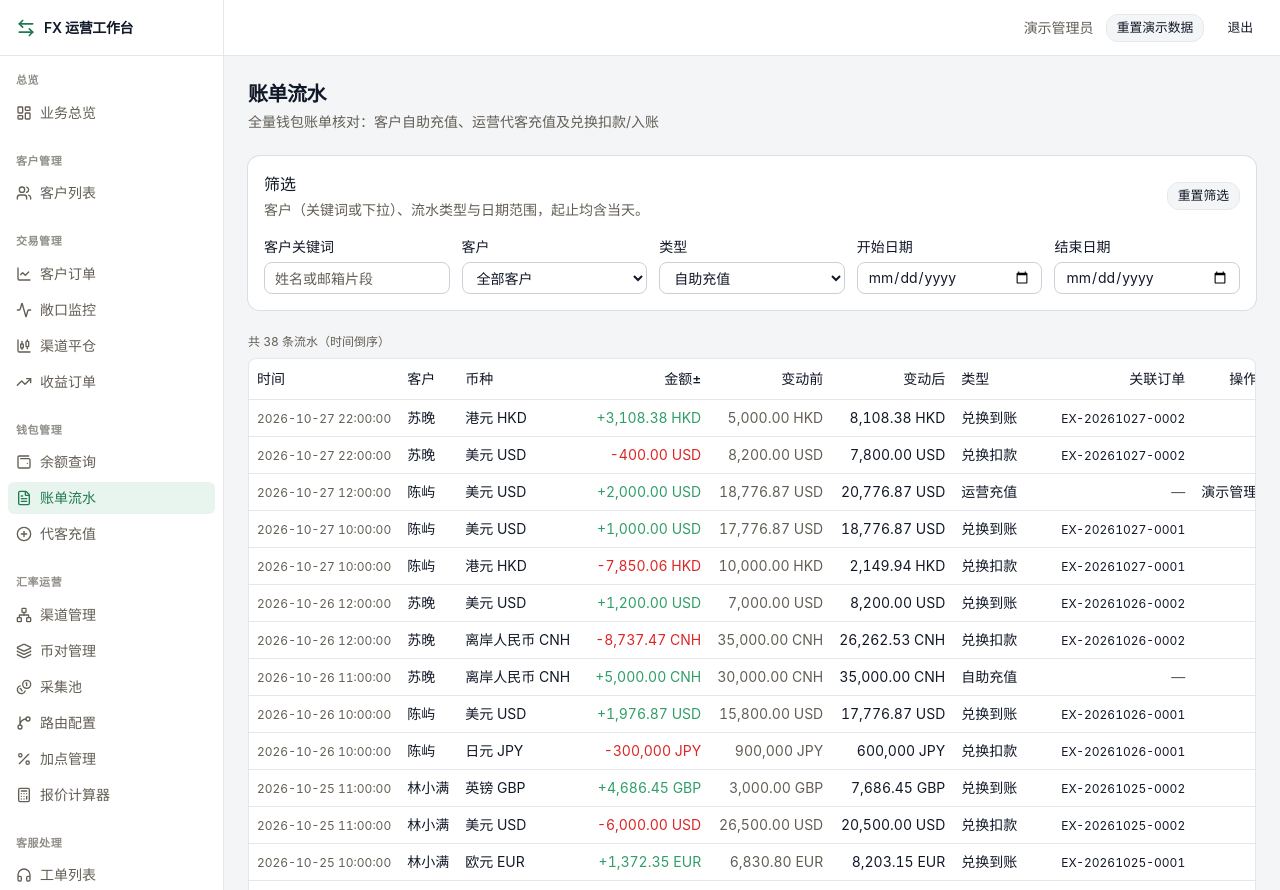
Test case: 运营账单流水 › 类型筛选 TOPUP_SELF 后仅 1 行（预置唯一一笔自助充值）
Select "自助充值" in the dropdown labelled "类型" at (752, 278), box x1=659 y1=262 x2=845 y2=294
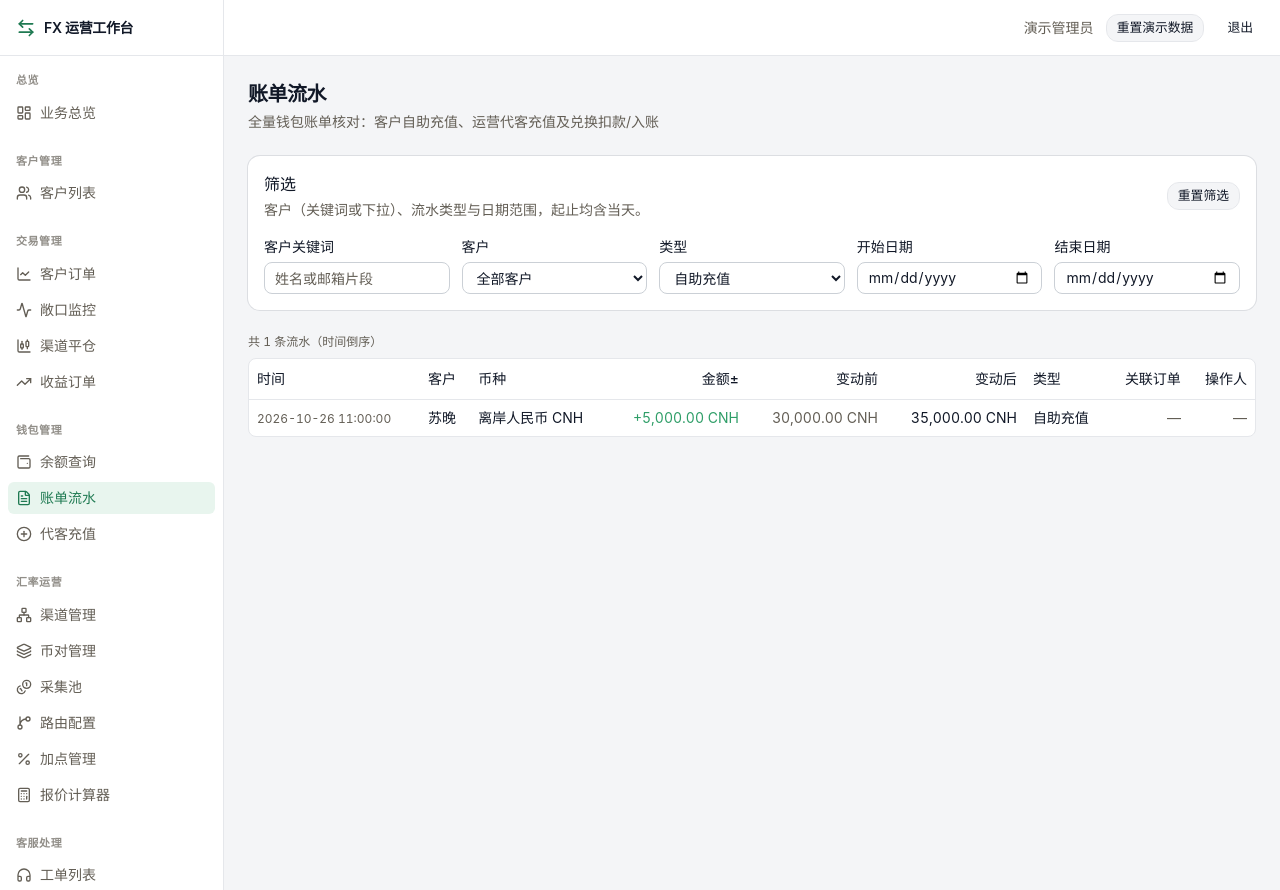
Check: the text "自助充值" is shown, box x1=248 y1=113 x2=659 y2=130
Check: the text "共 1 条流水" is shown, box x1=248 y1=334 x2=382 y2=349
